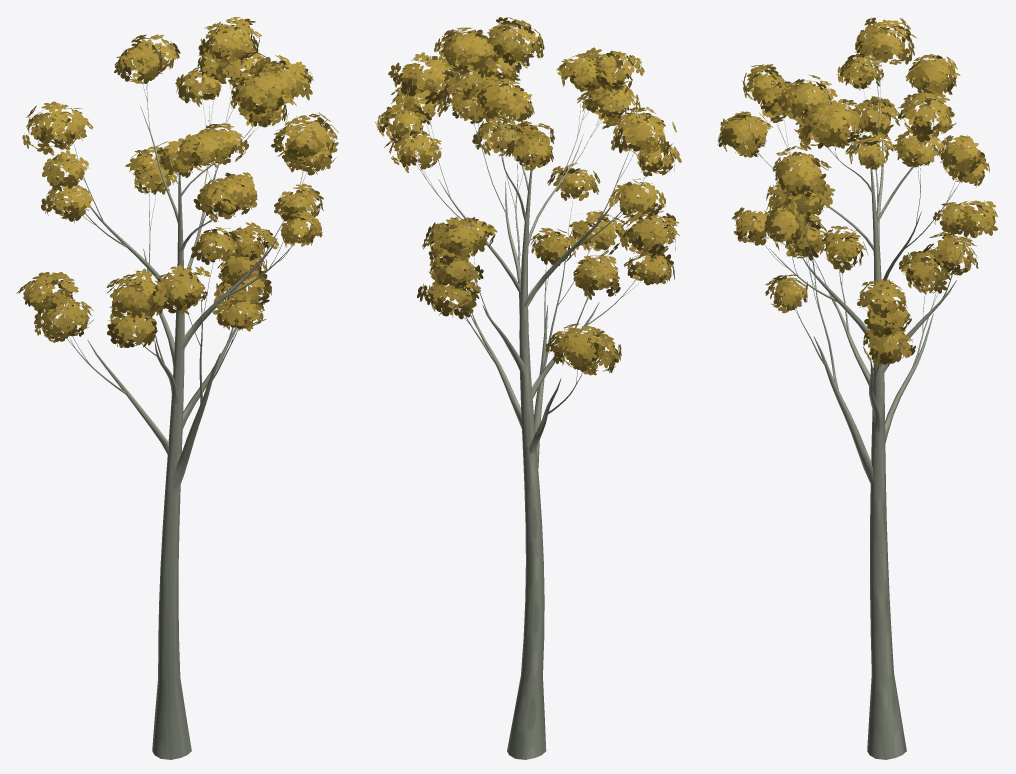
Rendered from tree.gltf.
3 renders of one model, left to right at view 1: azimuth 30°, elevation 25°; view 2: azimuth 150°, elevation 25°; view 3: azimuth 270°, elevation 25°, orthographic.
Visible parts, largest first — view 1: Tree_LOD0; view 2: Tree_LOD0; view 3: Tree_LOD0.
Part boxes in pixels (x1,y1,x2,y2): Tree_LOD0: (16, 17, 338, 759); Tree_LOD0: (375, 17, 681, 759); Tree_LOD0: (717, 17, 998, 759).
Size of the model in its own units: 10.95 by 26.5 by 9.87.
2 materials, 2 textured.
